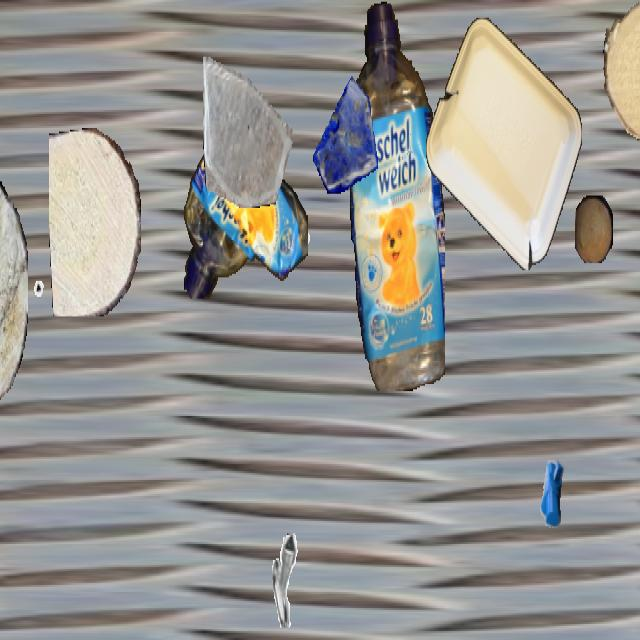glass: (203, 48, 293, 208), (312, 75, 378, 192)
metal: (373, 174, 433, 281), (522, 438, 580, 540), (272, 532, 326, 628), (274, 178, 314, 249), (30, 278, 70, 348)
plastic: (426, 18, 582, 270), (350, 2, 444, 389), (182, 137, 308, 297)
wood: (49, 128, 141, 316), (0, 166, 27, 436), (603, 2, 640, 140), (575, 196, 613, 263)
